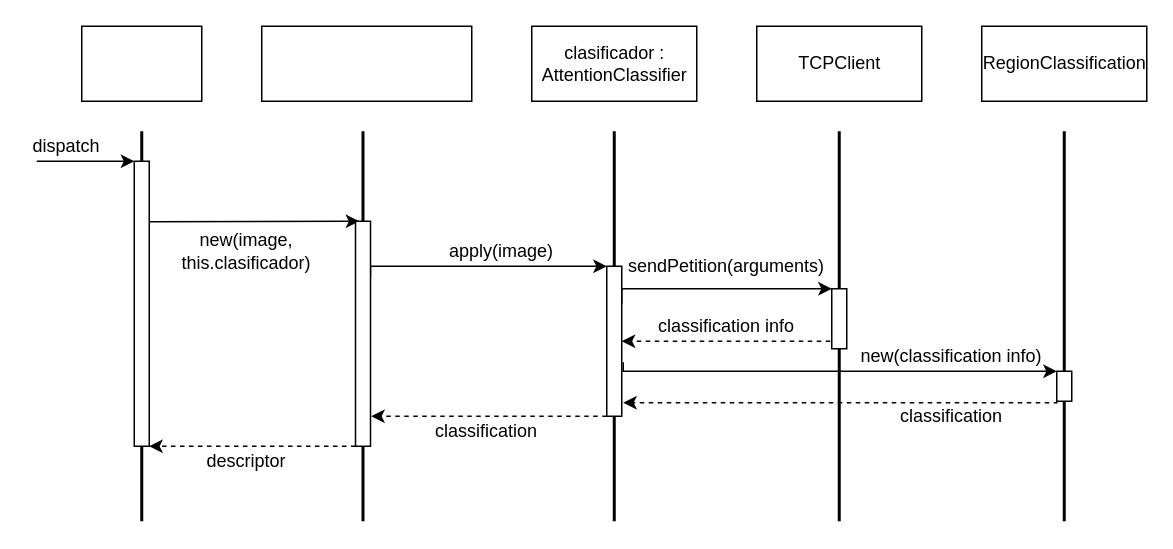
The diagram is 1173 pixels wide and 549 high, and some of its shapes have lost their labels. The centre of each missing label's shape, as x and y in pixels:
JMRFrame: the point at 141,63
RegionLabelDescriptor: the point at 366,63
